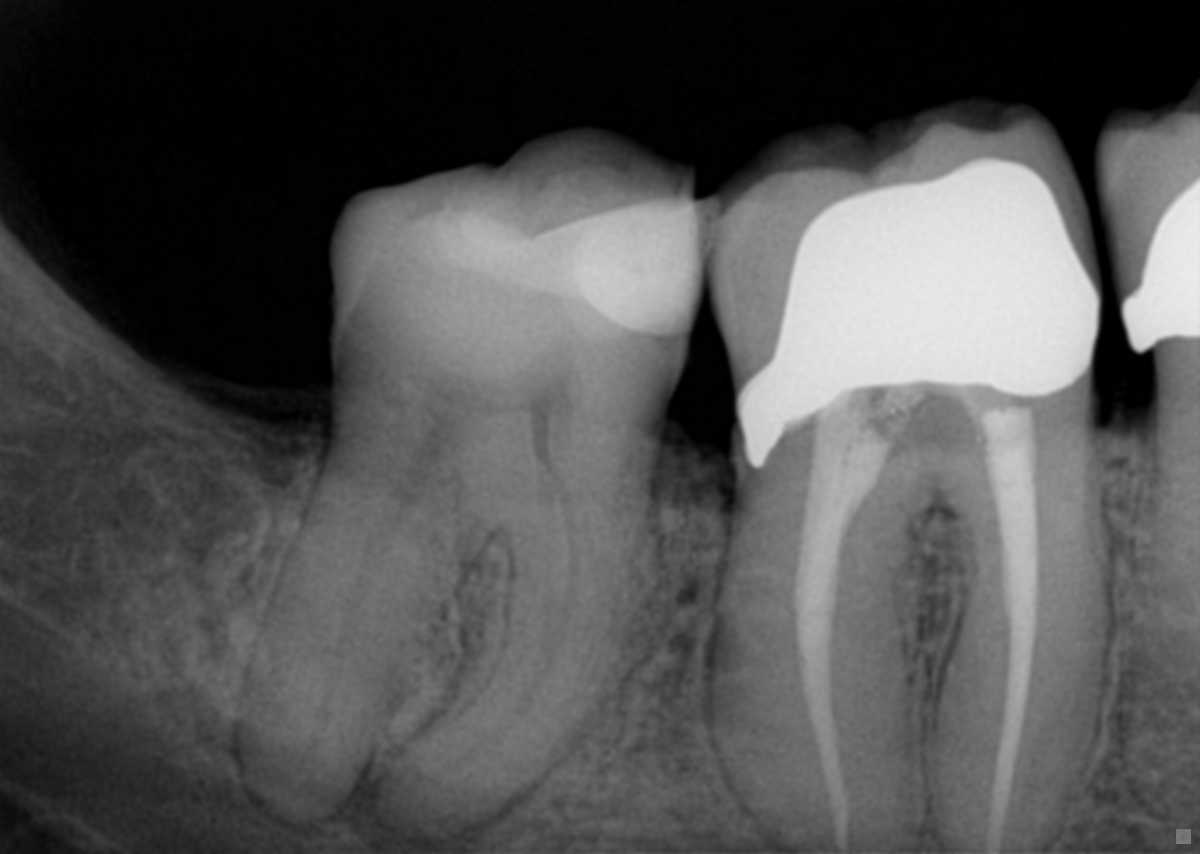Apical Lesion: (350, 763, 489, 854)
Distal Canal: (298, 450, 439, 777)
Distal Root: (236, 408, 507, 826), (701, 460, 931, 854)
Main Root: (1128, 404, 1200, 820)
Mesial Canal: (443, 477, 579, 777)
Mesial Root: (381, 477, 657, 836), (924, 406, 1114, 854)
Root Canal Filling: (799, 396, 894, 854), (982, 417, 1037, 854)
